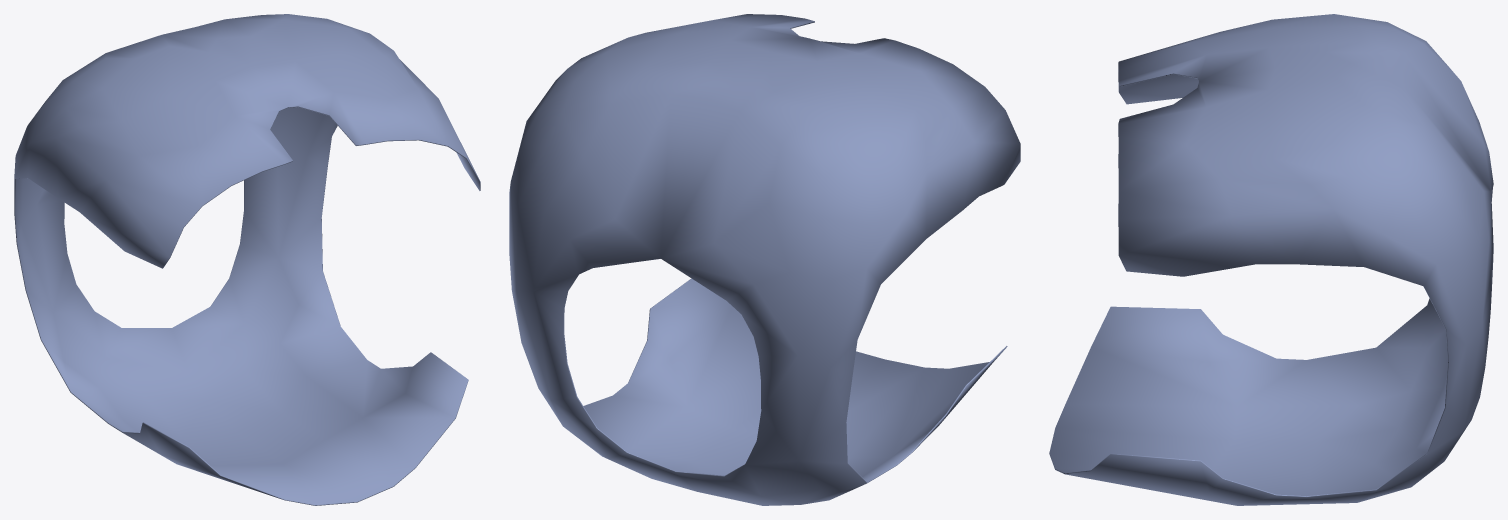
File: icub_simple_chest.dae
The picture shows the model from 3 angles, left to right: view 1: azimuth 30°, elevation 25°; view 2: azimuth 150°, elevation 25°; view 3: azimuth 270°, elevation 25°; orthographic projection. The views are drawn at different scales.
Visible parts, largest first — view 1: torso_mesh; view 2: torso_mesh; view 3: torso_mesh.
Part boxes in pixels (<box>): torso_mesh: <box>14,14,480,505</box>; torso_mesh: <box>509,14,1020,505</box>; torso_mesh: <box>1049,14,1493,505</box>.
Size of the model in its own units: 0.1898 by 0.1868 by 0.1827.
